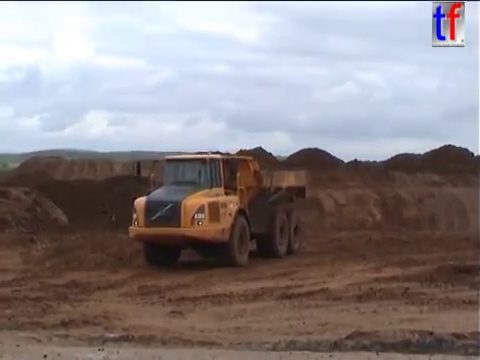truck: (126, 151, 309, 267)
